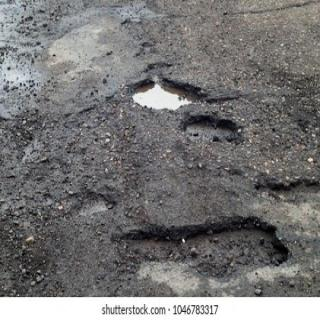pothole: (110, 216, 289, 296), (132, 78, 204, 111), (180, 115, 238, 142), (260, 184, 320, 210)
